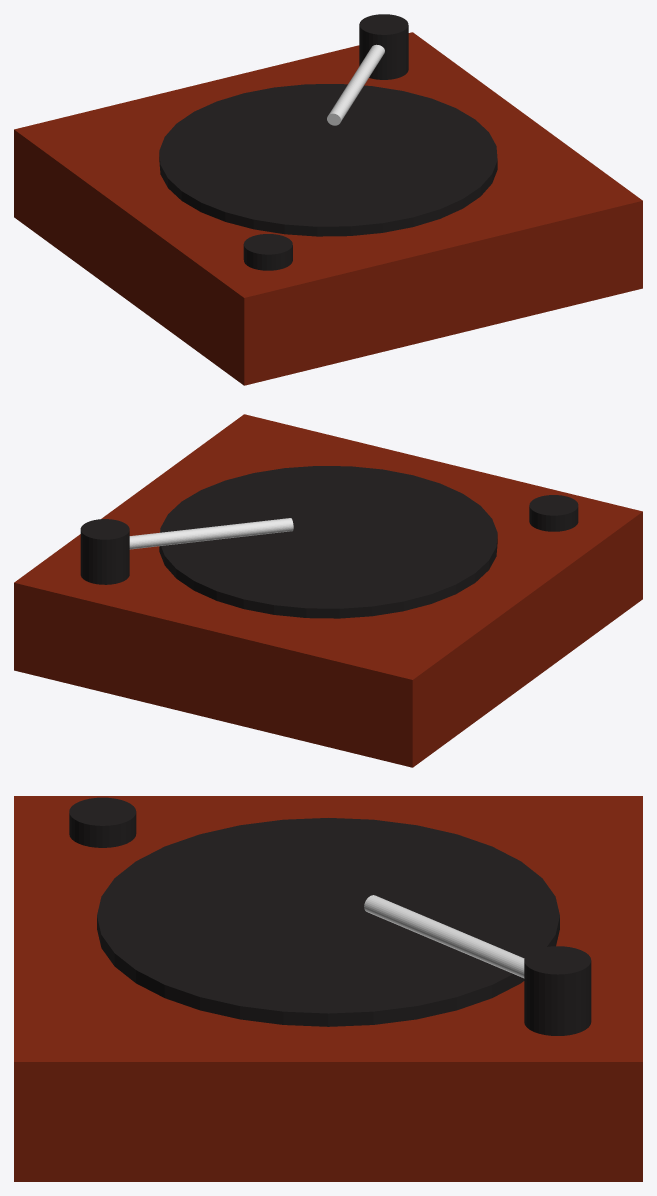
Rendered from Radio.fbx.
3 renders of one model, top to bottom at view 1: azimuth 30°, elevation 25°; view 2: azimuth 150°, elevation 25°; view 3: azimuth 270°, elevation 25°, orthographic. The views are drawn at different scales.
Visible parts, largest first — view 1: Radio, Record, Player Holder, Volumn Knob, Player Arm; view 2: Radio, Record, Player Holder, Player Arm, Volumn Knob; view 3: Radio, Record, Player Holder, Player Arm, Volumn Knob.
Part boxes in pixels (box(x1,y1,x2,y2)): Radio: box(14, 32, 642, 385); Record: box(159, 84, 497, 236); Player Holder: box(359, 14, 408, 79); Volumn Knob: box(243, 234, 292, 270); Player Arm: box(327, 44, 384, 125); Radio: box(14, 414, 642, 767); Record: box(159, 466, 497, 618); Player Holder: box(80, 519, 129, 584); Player Arm: box(129, 518, 293, 549); Volumn Knob: box(529, 495, 578, 531); Radio: box(14, 796, 642, 1181); Record: box(97, 818, 559, 1026); Player Holder: box(524, 946, 591, 1035); Player Arm: box(364, 895, 524, 978); Volumn Knob: box(69, 797, 136, 847).
Bounding box in the file's own units: 0.4441 × 0.1414 × 0.4441.
